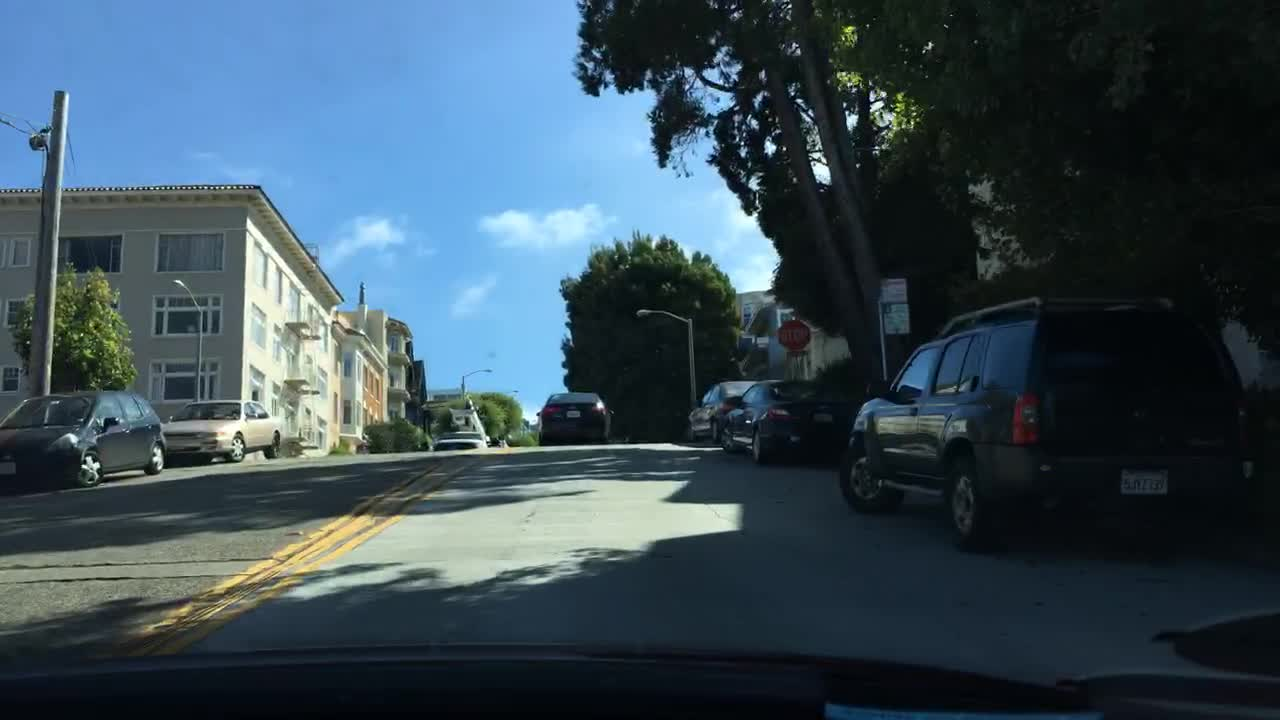car: (836, 293, 1256, 548), (0, 388, 165, 488), (720, 377, 859, 463), (161, 397, 281, 462), (686, 378, 764, 446), (535, 390, 611, 445), (431, 428, 486, 450)
traffic sign: (776, 318, 811, 348), (882, 303, 912, 334), (879, 275, 906, 302), (784, 348, 808, 355)
